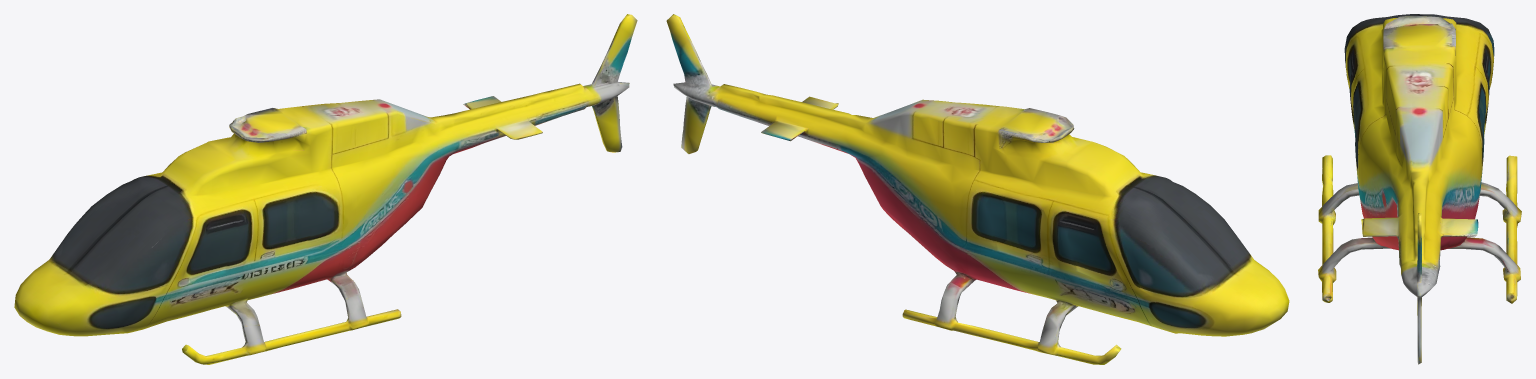
Rendered from heli_news.glb.
3 views of the same model, side by side, from view 1: azimuth 30°, elevation 25°; view 2: azimuth 150°, elevation 25°; view 3: azimuth 270°, elevation 25° (orthographic). The views are drawn at different scales.
Parts seen in each view (by area): view 1: Mesh_0; view 2: Mesh_0; view 3: Mesh_0.
Part boxes in pixels (x1,y1,x2,y2): Mesh_0: [14, 14, 637, 364]; Mesh_0: [666, 14, 1289, 364]; Mesh_0: [1318, 14, 1521, 364].
Bounding box in the file's own units: 9.24 × 3 × 2.27.
Materials: 1 (1 with a texture image).
